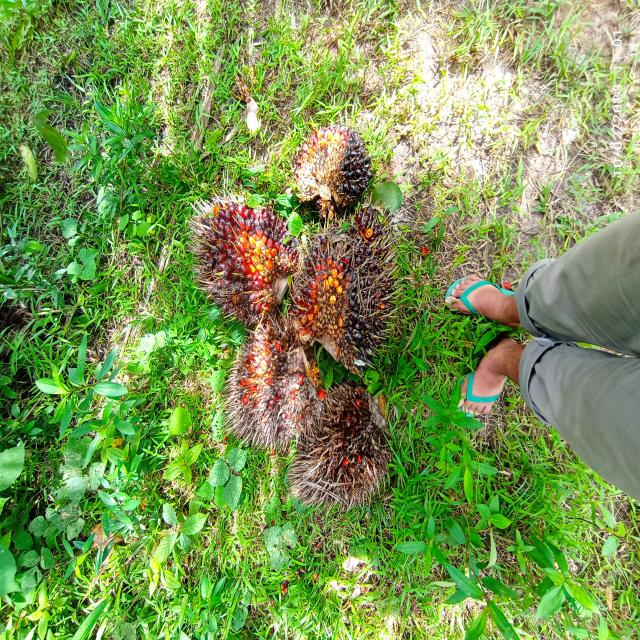fraksi 00: (294, 203, 406, 371), (282, 98, 381, 241)
fraksi 3: (173, 180, 306, 338)
fraksi 4: (224, 316, 327, 458)
